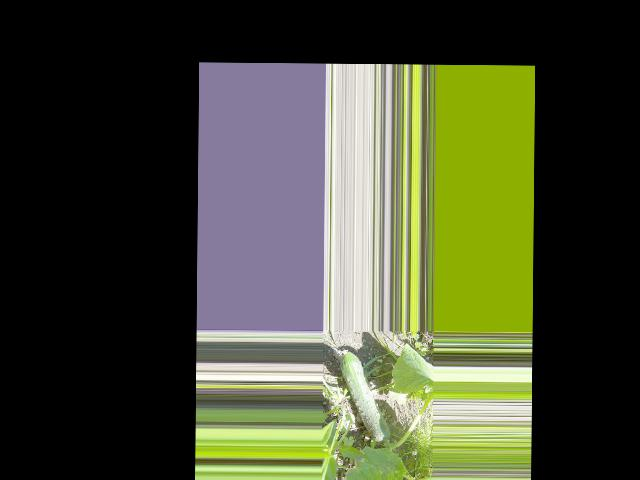cucumber: (339, 350, 391, 443)
